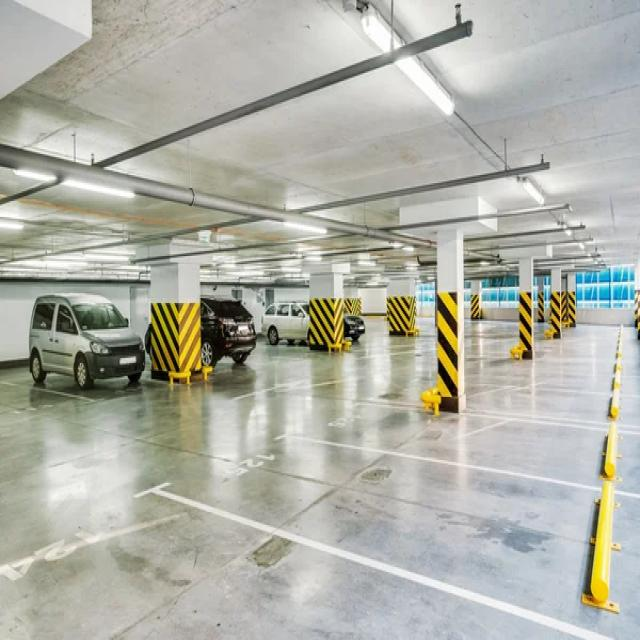ocupado: (19, 284, 268, 407), (258, 293, 368, 353)
